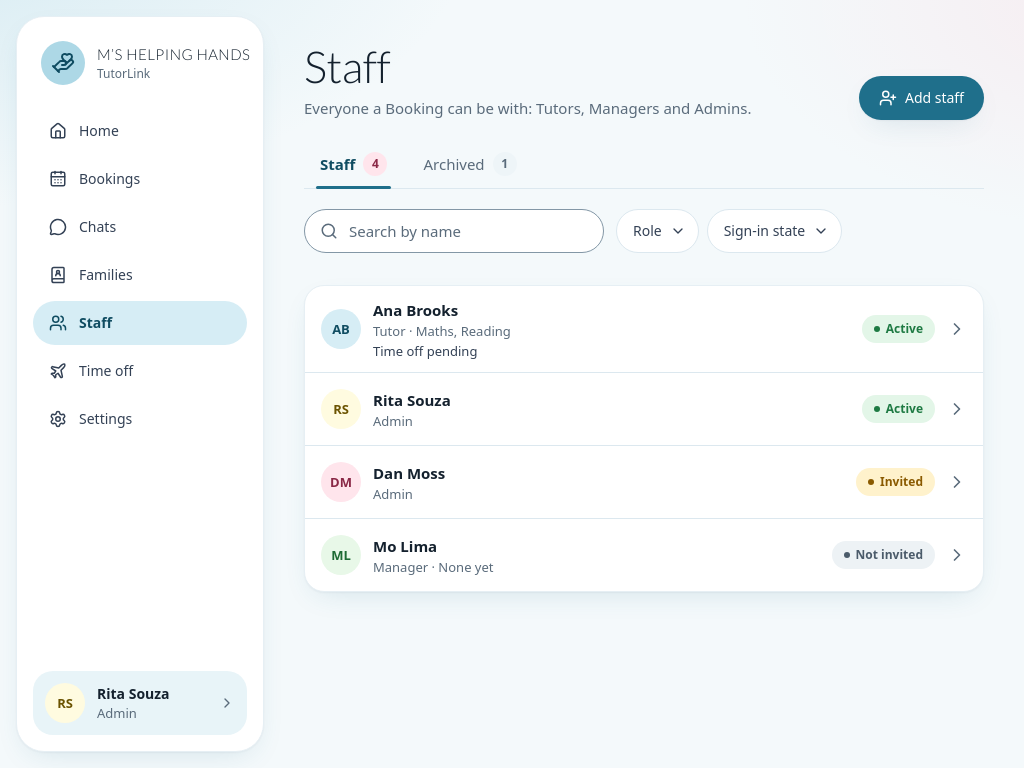
Test case: Staff list at 1280 › keeps the caret where it is when editing mid-text
The image size is (1024, 768).
Type "Ana Brooks" into the search field named "Search Staff" at (454, 231), box x1=304 y1=209 x2=604 y2=253
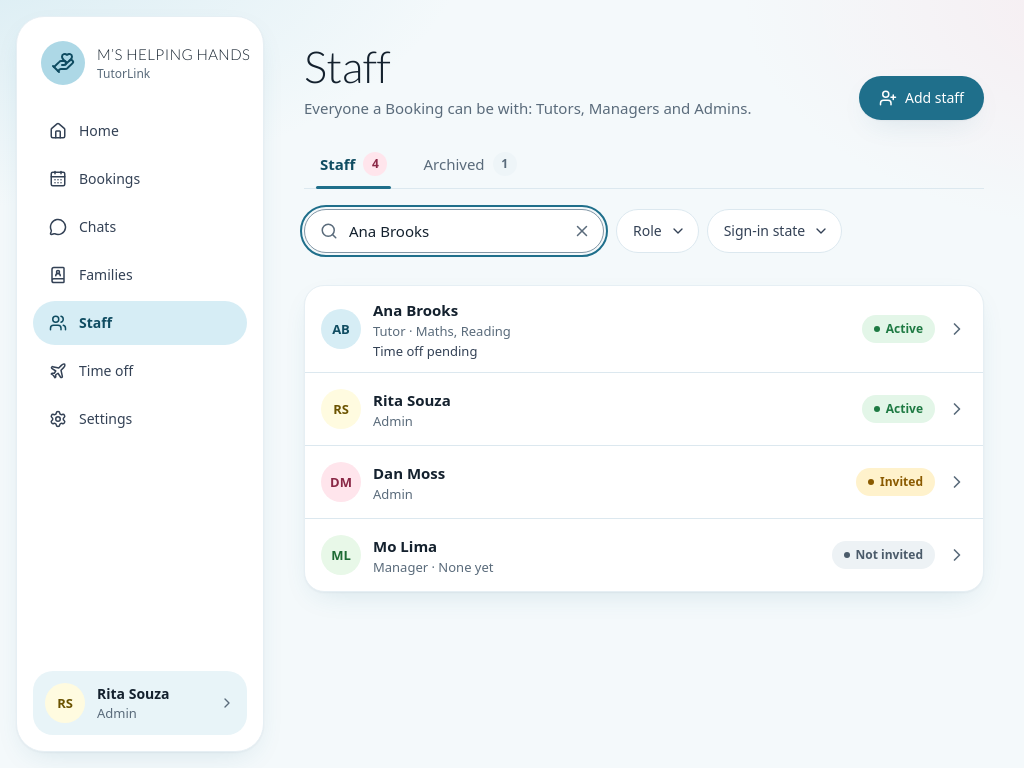
Type keys "xy"
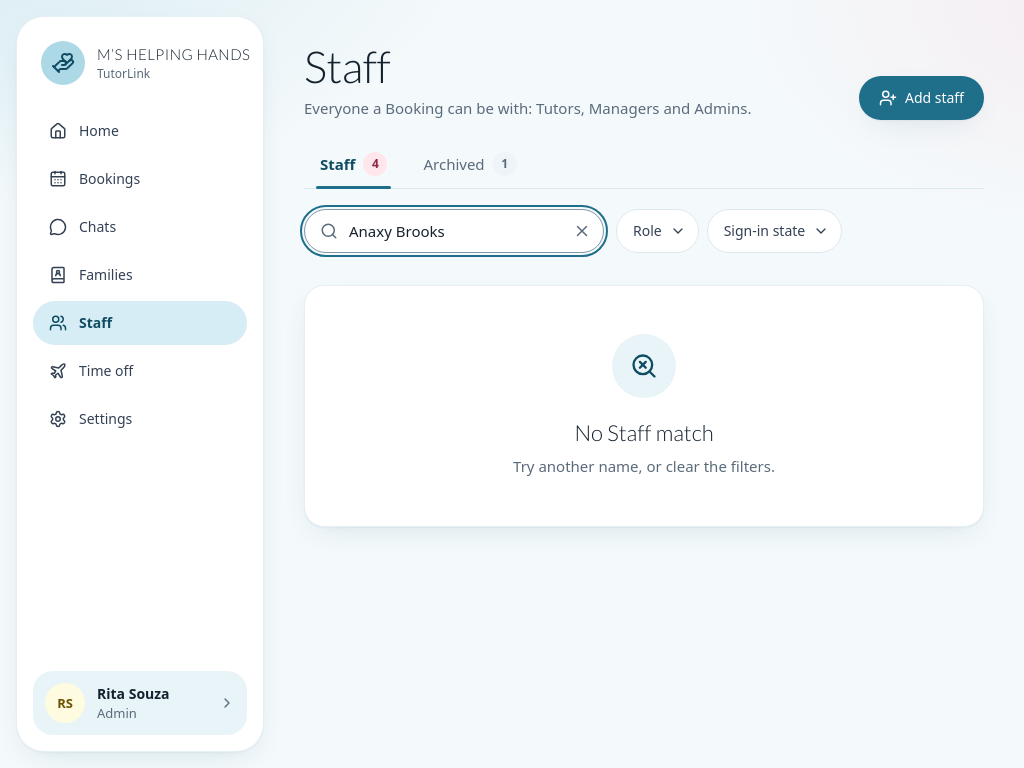
Expected: the search field named "Search Staff" holds "Anaxy Brooks", x1=304 y1=209 x2=604 y2=253
